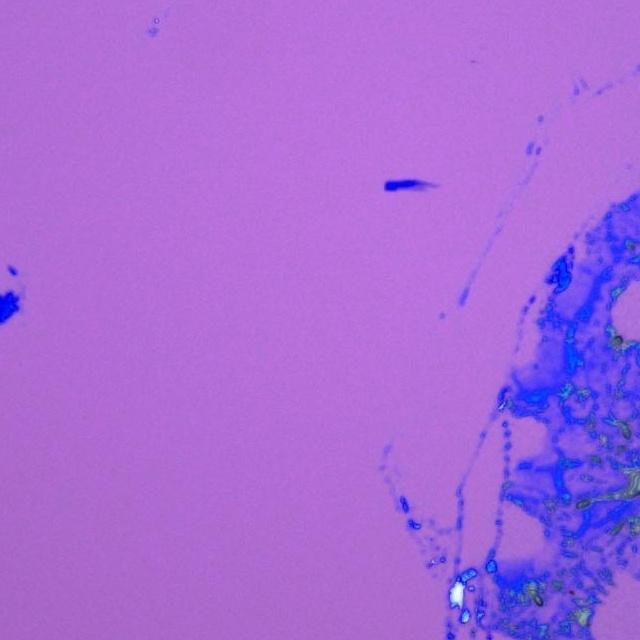monolayer-eWW4: (403, 180, 435, 192)
